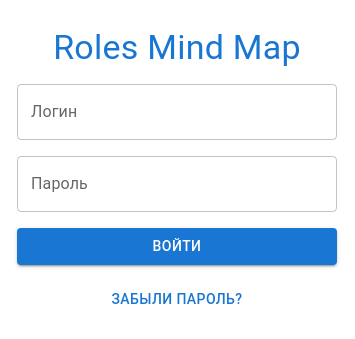
it: a 401 from login shows the invalid-credentials error
Type "tester" into the field labelled "Логин".
click(177, 112); type("tester")  # box [17,84,337,140]
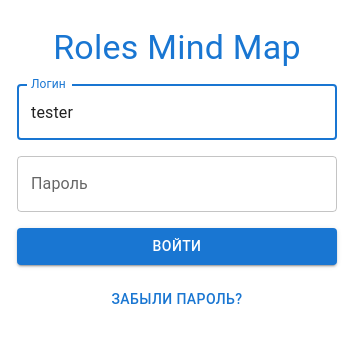
Type "pass1" into the password field labelled "Пароль".
click(177, 184); type("pass1")  # box [17,156,337,212]
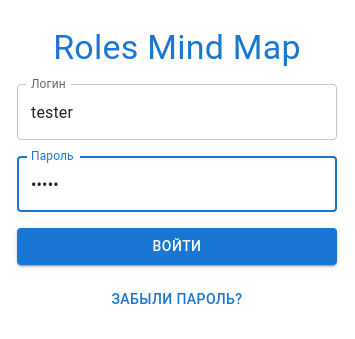
Click the button "Войти".
click(177, 247)  # box [17,228,337,265]
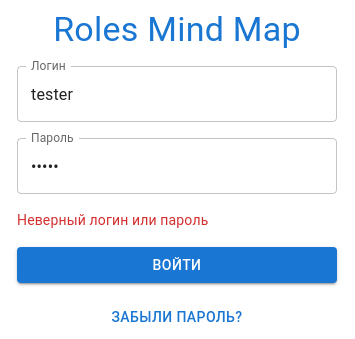
Check: the text "Неверный логин или пароль" is shown, box [17,212,208,228]
